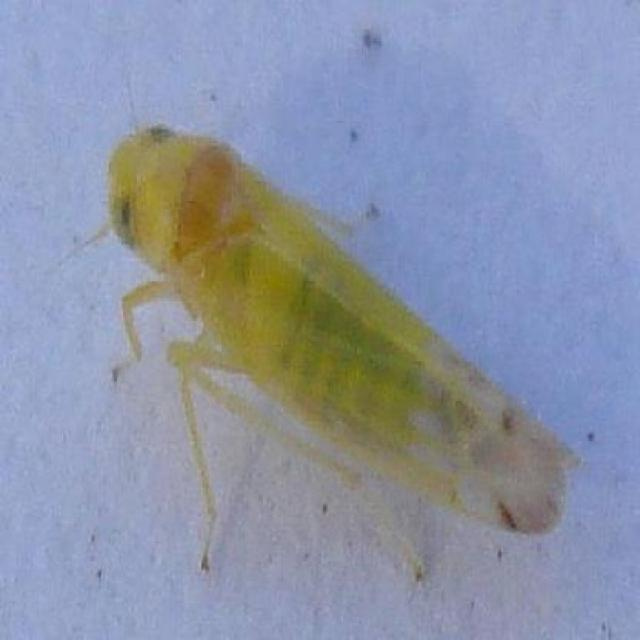green-leafhopper: (102, 124, 585, 587)
